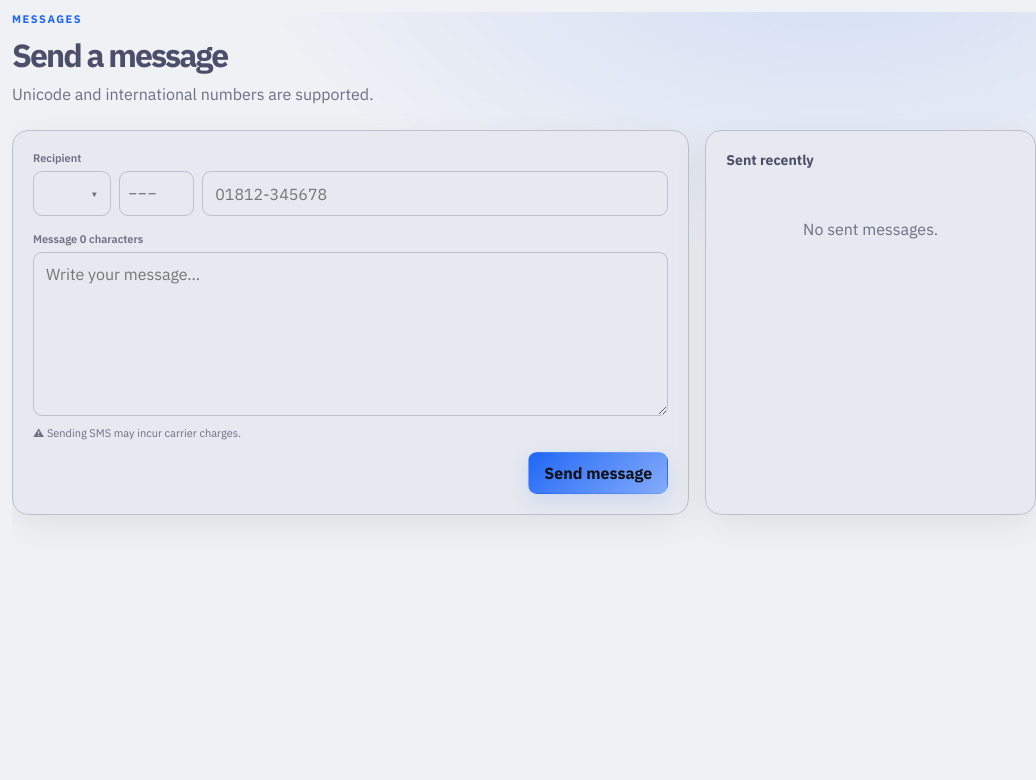
Test case: Messages workflows › validates the send workflow through the API client
Type "+8801712345678" into the field with placeholder "01812-345678" at (435, 194), box [202,171,668,216]
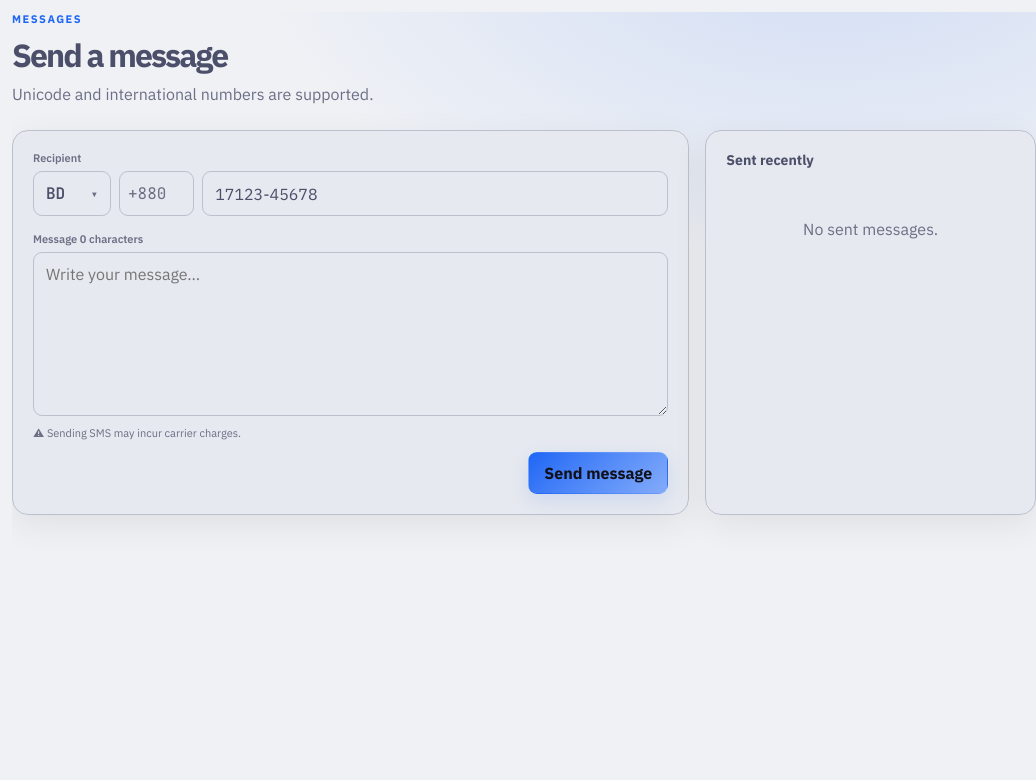
Type "Hello from the console" into the text box with placeholder "Write your message…" at (351, 334), box [33,252,668,416]
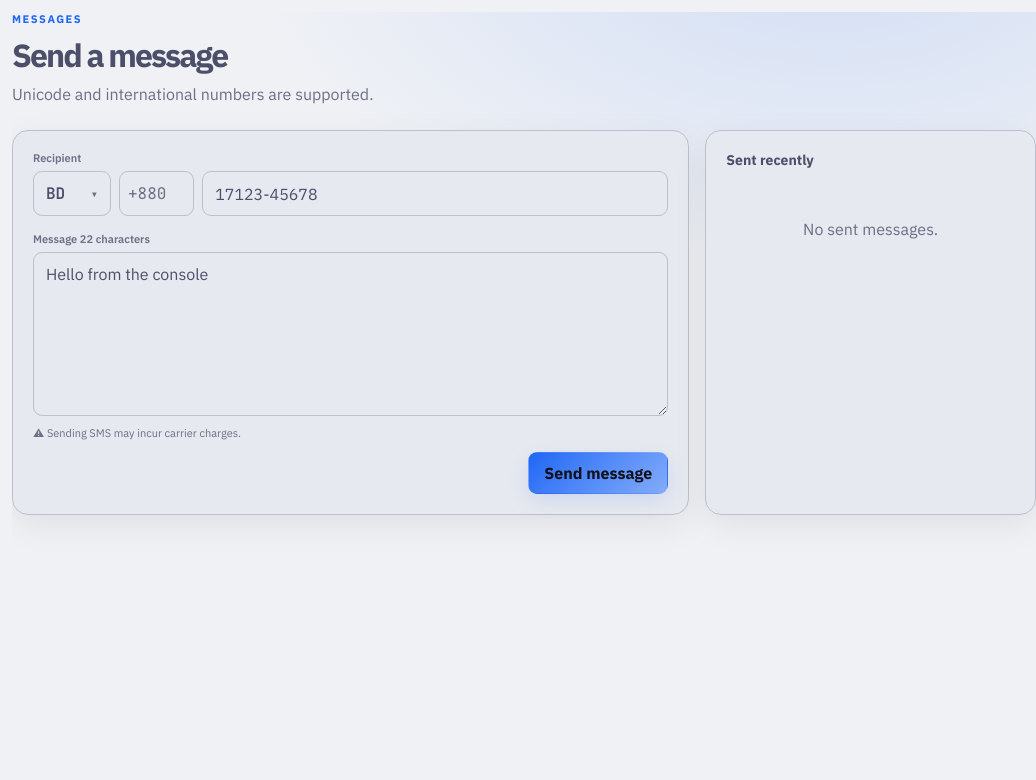
Click the button "Send message" at (598, 473), box [528,452,668,494]
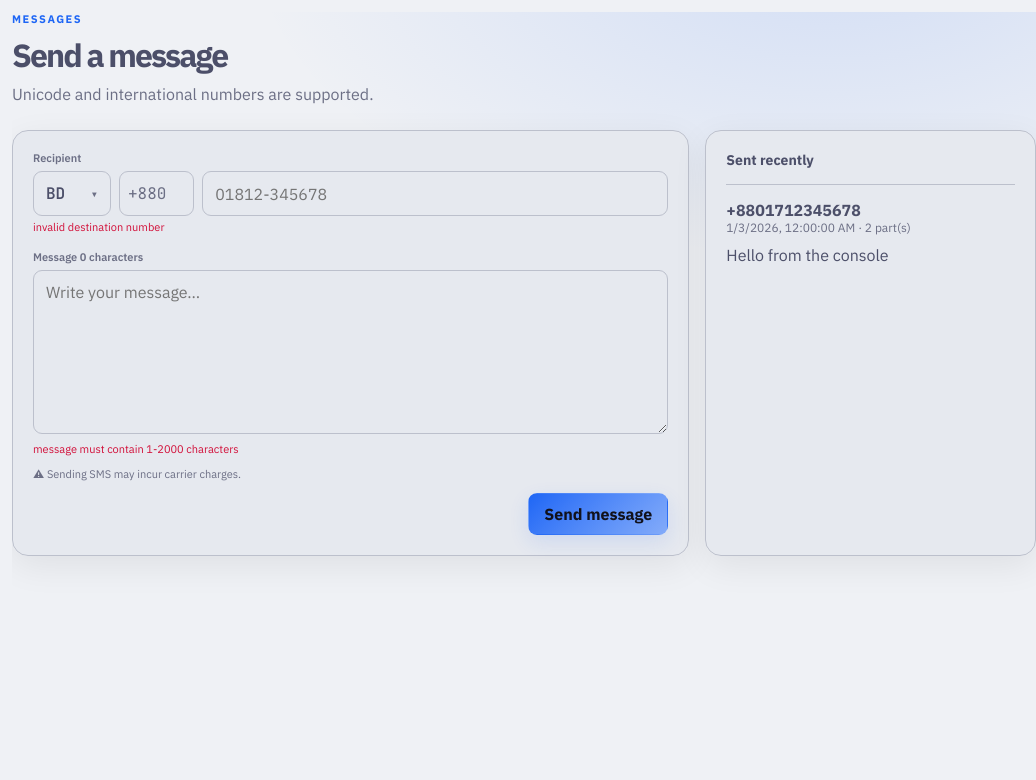
Now the text "+8801712345678" is shown, box [726,200,861,220]
